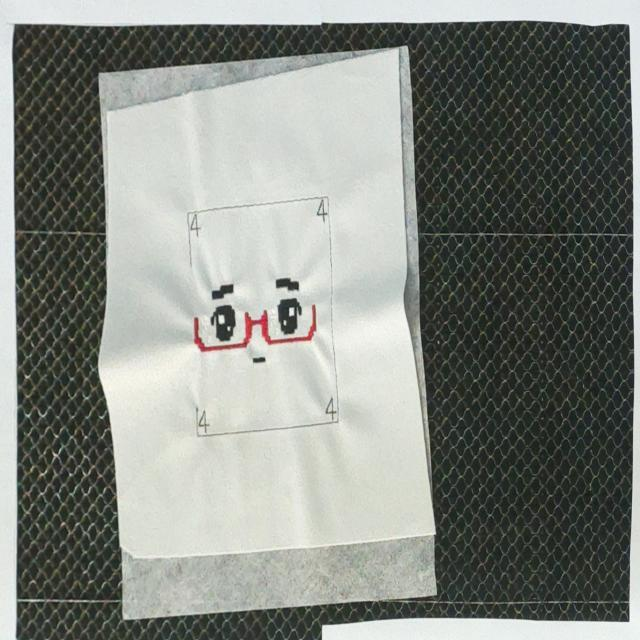4 -: (322, 396, 339, 425), (188, 215, 204, 239), (198, 404, 210, 436), (316, 200, 330, 226)
